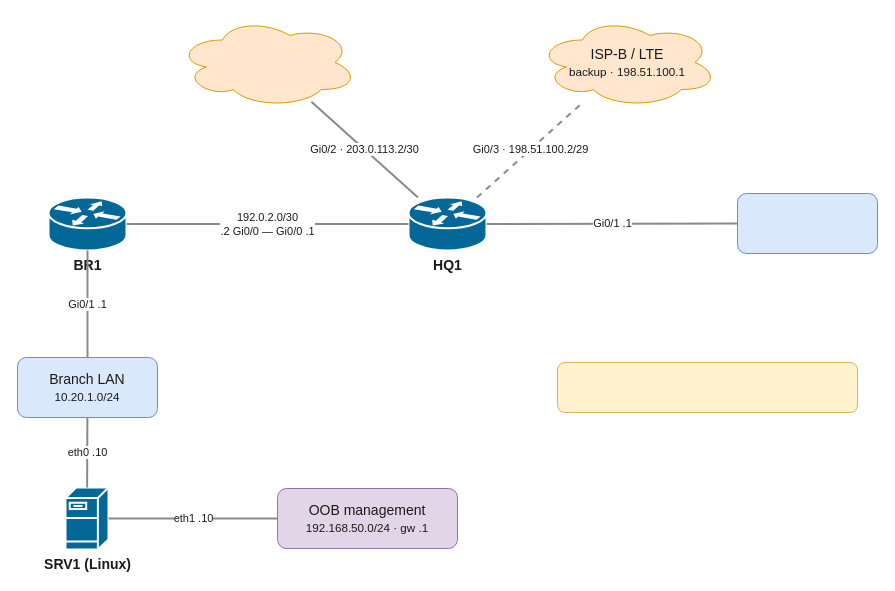
Some shapes in this 895 by 591 pixel diagram are drawn without their labels. The centre of each missing label's shape, as x and y in pixels:
"HQ LAN 10.10.0.0/16" belongs at point 807,223.
"ISP-A primary · 203.0.113.1" belongs at point 267,62.
"Solid line: primary path Dashed line: backup (floating static, AD 250)" belongs at point 707,387.
